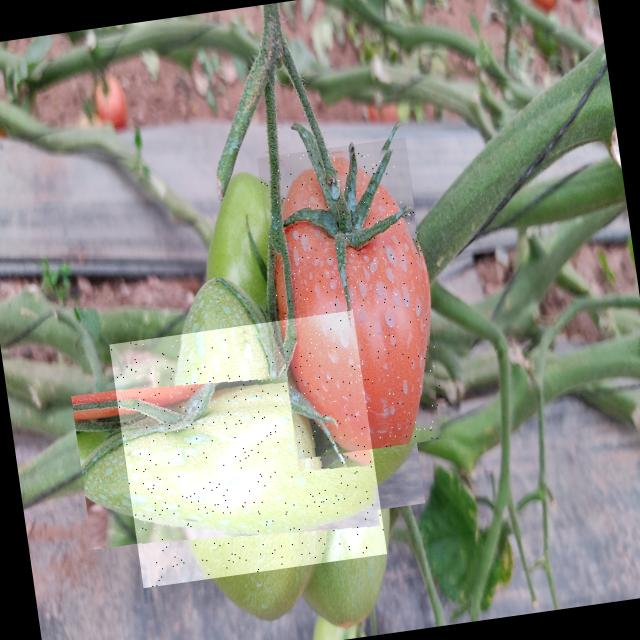Ripe Tomato: (257, 138, 448, 460)
Unripe Tomato: (110, 310, 388, 588)
